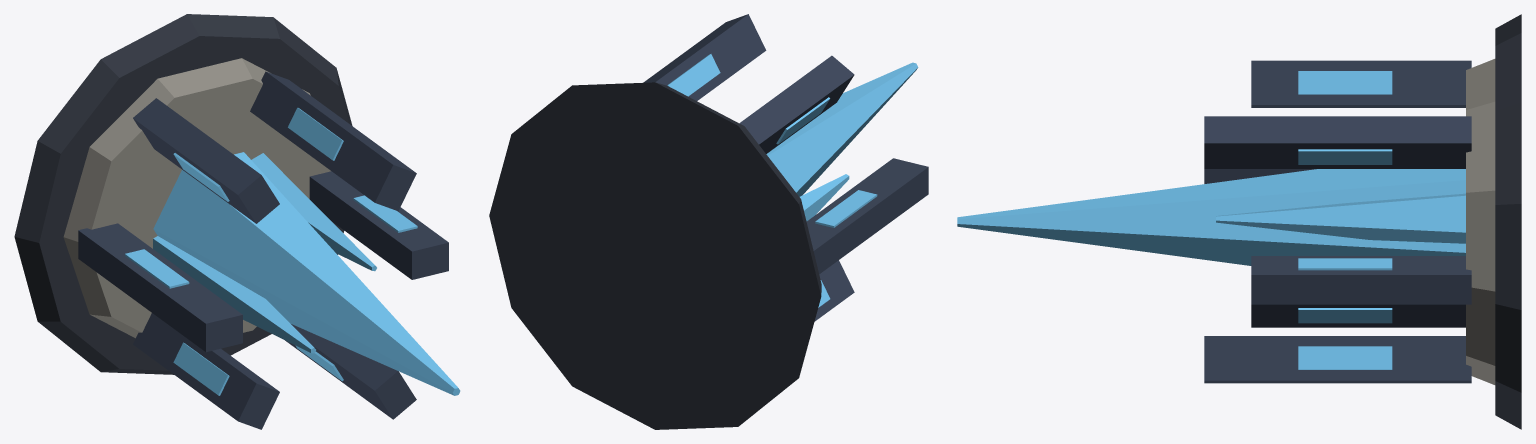
The model's file is SM_Runestone.obj.
3 renders of one model, left to right at view 1: azimuth 30°, elevation 25°; view 2: azimuth 150°, elevation 25°; view 3: azimuth 270°, elevation 25°, orthographic. The views are drawn at different scales.
Visible parts, largest first — view 1: SM_Runestone_slate, SM_Runestone_ice, SM_Runestone_basalt, SM_Runestone_stone; view 2: SM_Runestone_basalt, SM_Runestone_slate, SM_Runestone_ice; view 3: SM_Runestone_slate, SM_Runestone_ice, SM_Runestone_basalt, SM_Runestone_stone.
Boxes of the visible parts, x1,y1,x2,y2 form: SM_Runestone_slate: [78, 71, 448, 429]; SM_Runestone_ice: [125, 107, 460, 395]; SM_Runestone_basalt: [14, 14, 352, 374]; SM_Runestone_stone: [63, 58, 330, 338]; SM_Runestone_basalt: [489, 82, 821, 429]; SM_Runestone_slate: [643, 14, 928, 321]; SM_Runestone_ice: [667, 54, 918, 307]; SM_Runestone_slate: [1204, 60, 1471, 383]; SM_Runestone_ice: [957, 71, 1465, 369]; SM_Runestone_basalt: [1495, 14, 1521, 429]; SM_Runestone_stone: [1466, 59, 1495, 384].
Size of the model in its own units: 710 by 710 by 960.
